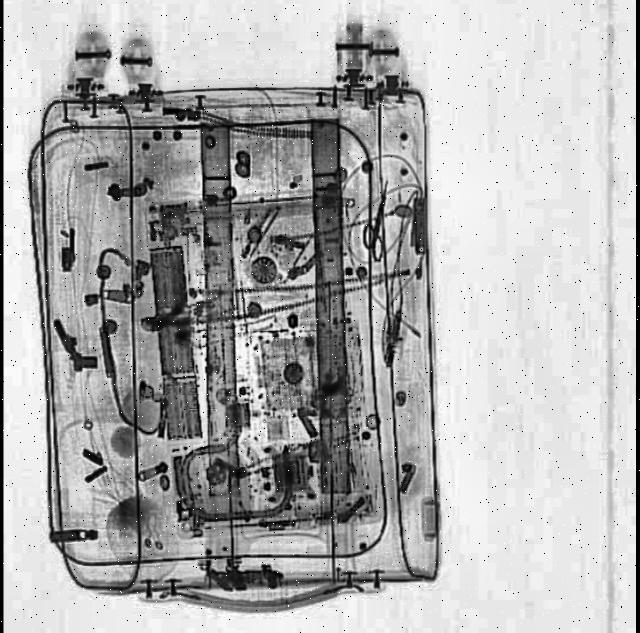Scissors: (354, 179, 399, 266)
